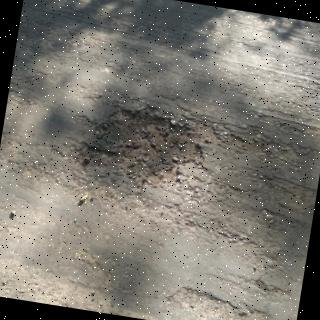pothole: (77, 112, 211, 192)
